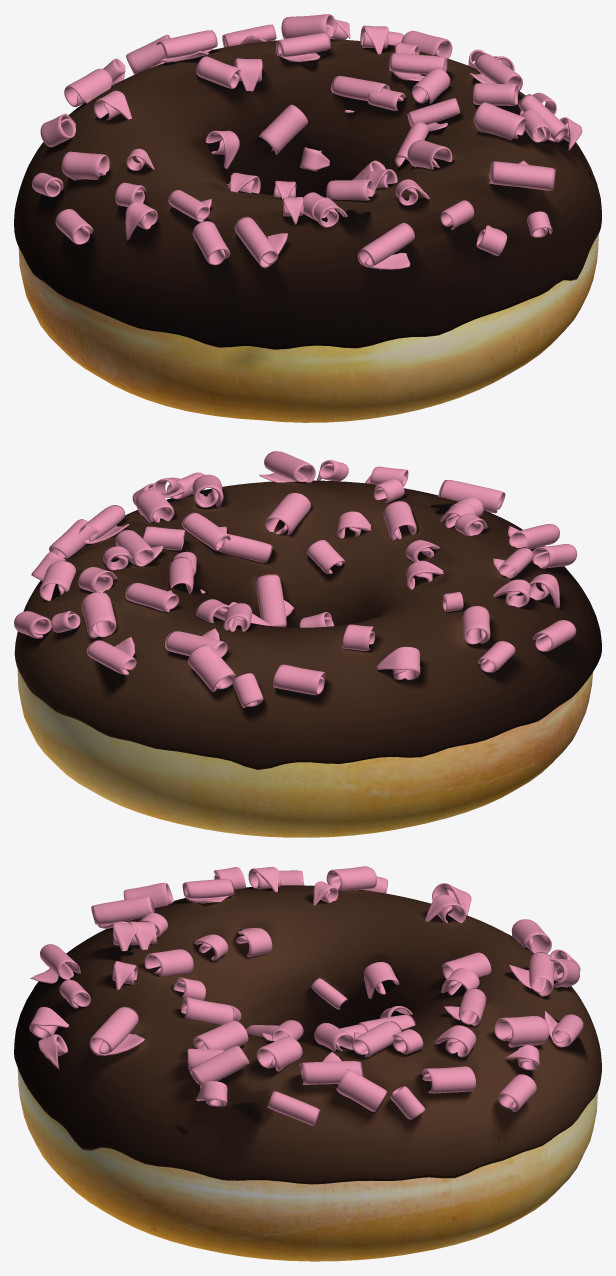
Rendered from dark strawberry curls.glb.
3 renders of one model, top to bottom at view 1: azimuth 30°, elevation 25°; view 2: azimuth 150°, elevation 25°; view 3: azimuth 270°, elevation 25°, orthographic. The views are drawn at different scales.
Visible parts, largest first — view 1: coffee.001, dark, choco & straw curls, Torus; view 2: dark, coffee.001, choco & straw curls, Torus; view 3: dark, coffee.001, choco & straw curls, Torus.
Boxes of the visible parts, x1,y1,x2,y2 form: coffee.001: [14, 39, 601, 349]; dark: [15, 39, 601, 349]; choco & straw curls: [32, 14, 582, 269]; Torus: [18, 234, 598, 422]; dark: [15, 481, 585, 769]; coffee.001: [14, 480, 601, 769]; choco & straw curls: [14, 451, 577, 707]; Torus: [17, 669, 592, 837]; dark: [48, 885, 601, 1184]; coffee.001: [14, 885, 601, 1184]; choco & straw curls: [29, 866, 583, 1126]; Torus: [17, 1068, 597, 1261].
Size of the model in its own units: 0.1989 by 0.0804 by 0.1972.
Materials: 4 (2 with a texture image).
